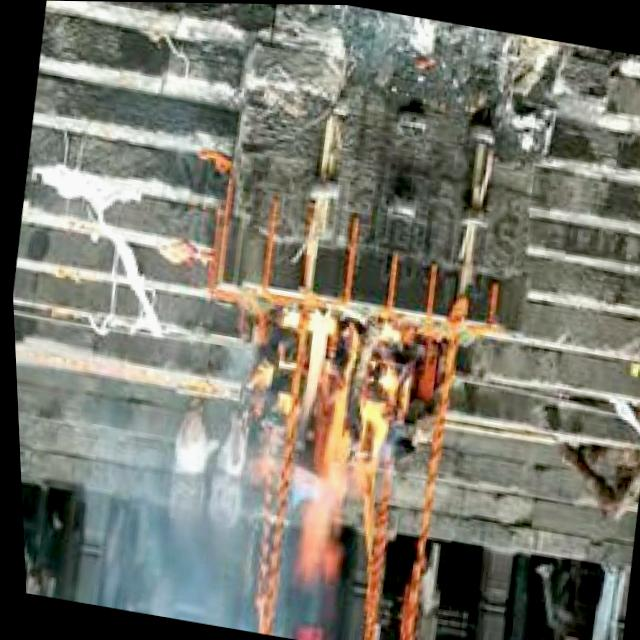helmet: (238, 301, 414, 597)
